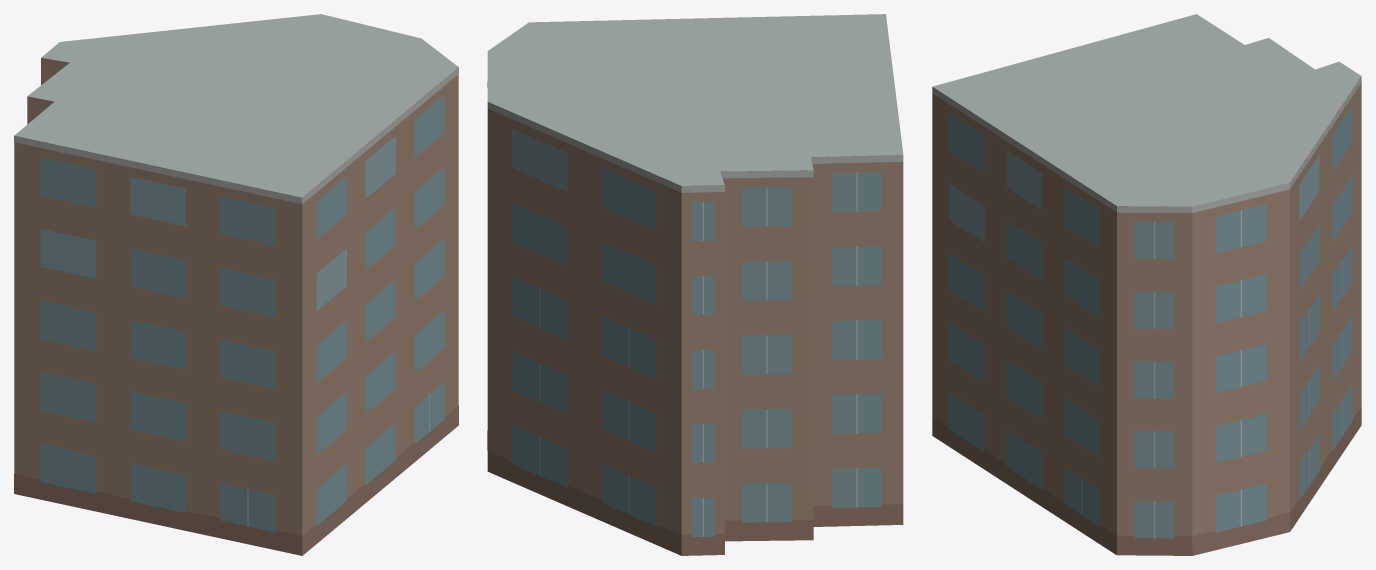
File: survey-upis-33028747.glb
3 views of the same model, side by side, from view 1: azimuth 30°, elevation 25°; view 2: azimuth 150°, elevation 25°; view 3: azimuth 270°, elevation 25° (orthographic). The views are drawn at different scales.
Visible parts, largest first — view 1: survey-upis-33028747.tmp; view 2: survey-upis-33028747.tmp; view 3: survey-upis-33028747.tmp.
Boxes of the visible parts, bbox=[...] form: survey-upis-33028747.tmp: bbox=[14, 14, 458, 555]; survey-upis-33028747.tmp: bbox=[487, 14, 903, 555]; survey-upis-33028747.tmp: bbox=[932, 14, 1361, 555].
Size of the model in its own units: 15.51 by 13.1 by 14.6.
